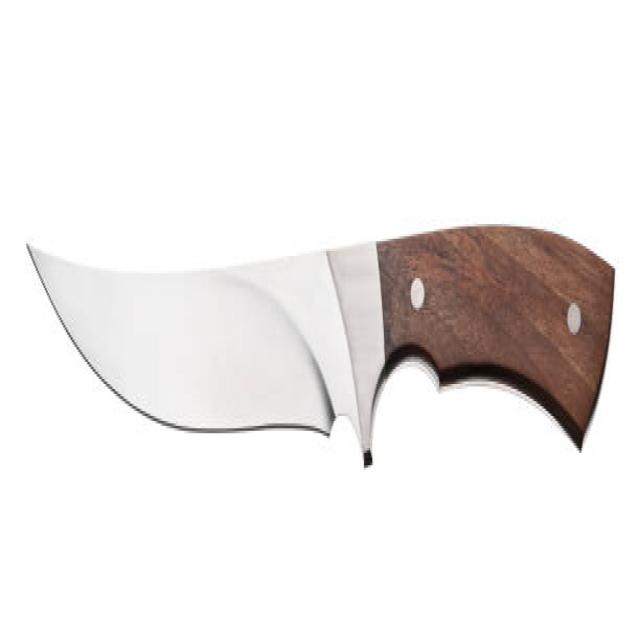knife: (22, 224, 618, 531)
